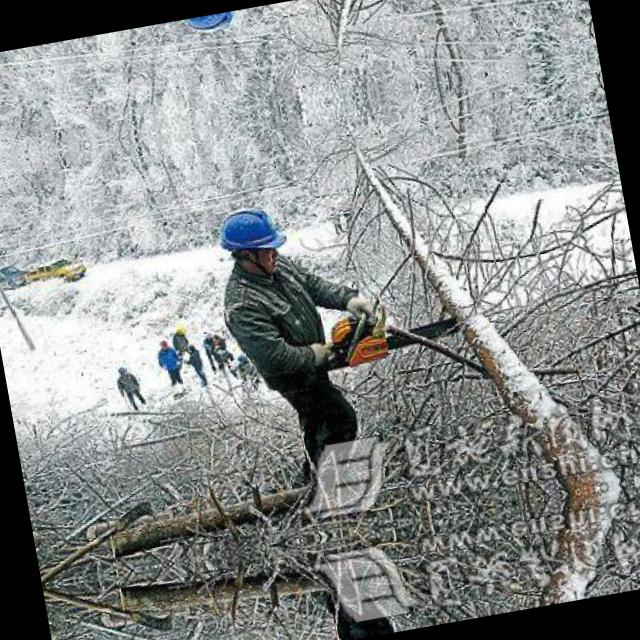helmet: (208, 198, 290, 280), (175, 8, 250, 42)
